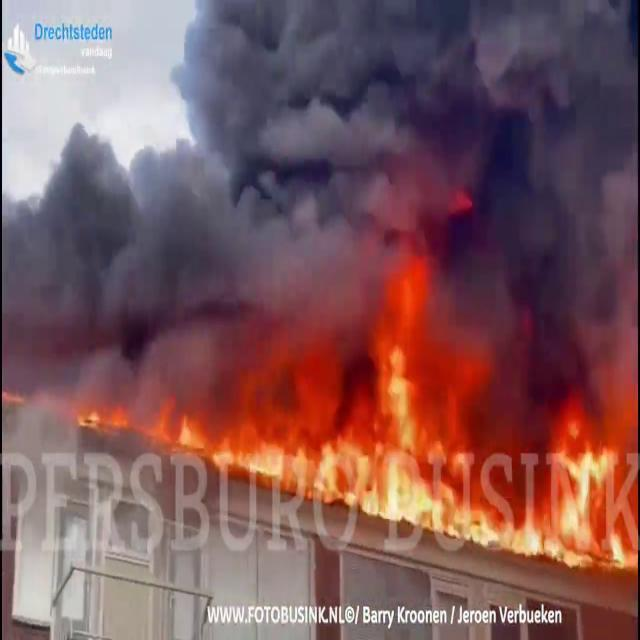Fire: (67, 264, 634, 538)
Smoke: (5, 1, 631, 368)
